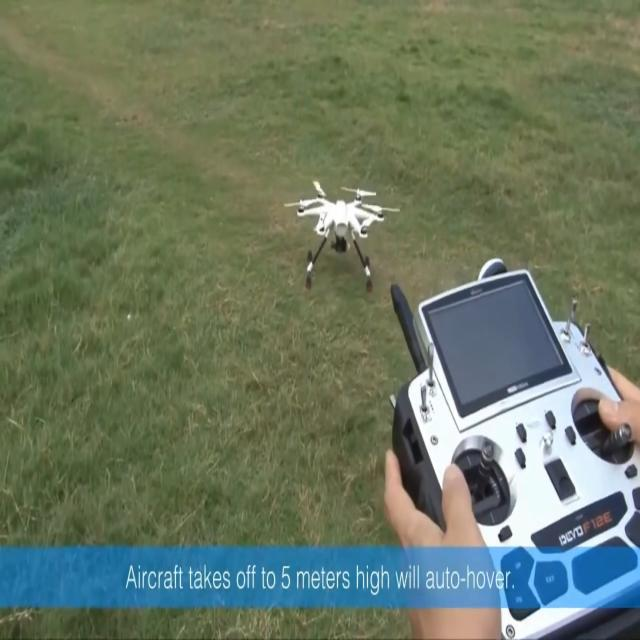drone: (283, 178, 400, 294)
